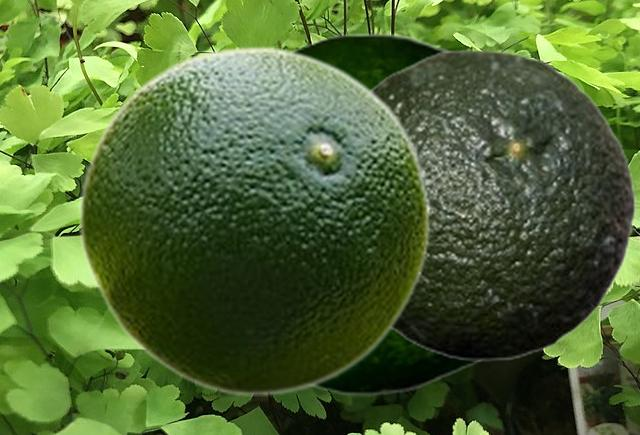calamansi: (77, 45, 430, 395), (370, 49, 636, 360), (289, 32, 488, 395)
